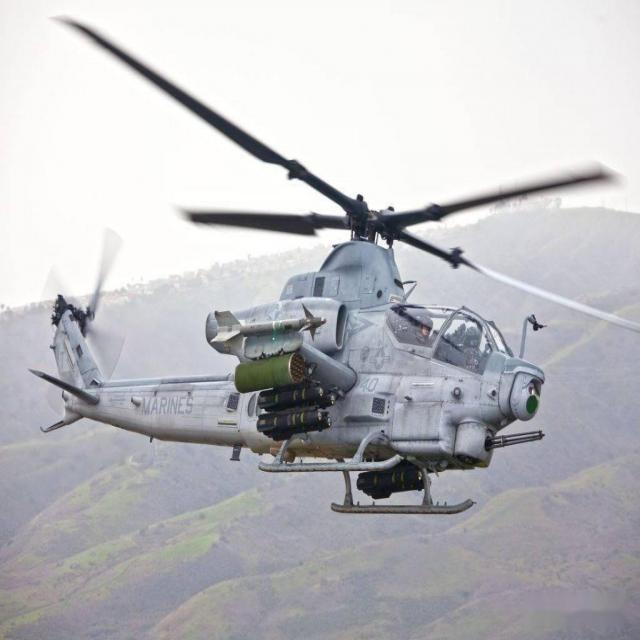MIL_HELO: (32, 22, 625, 530)
